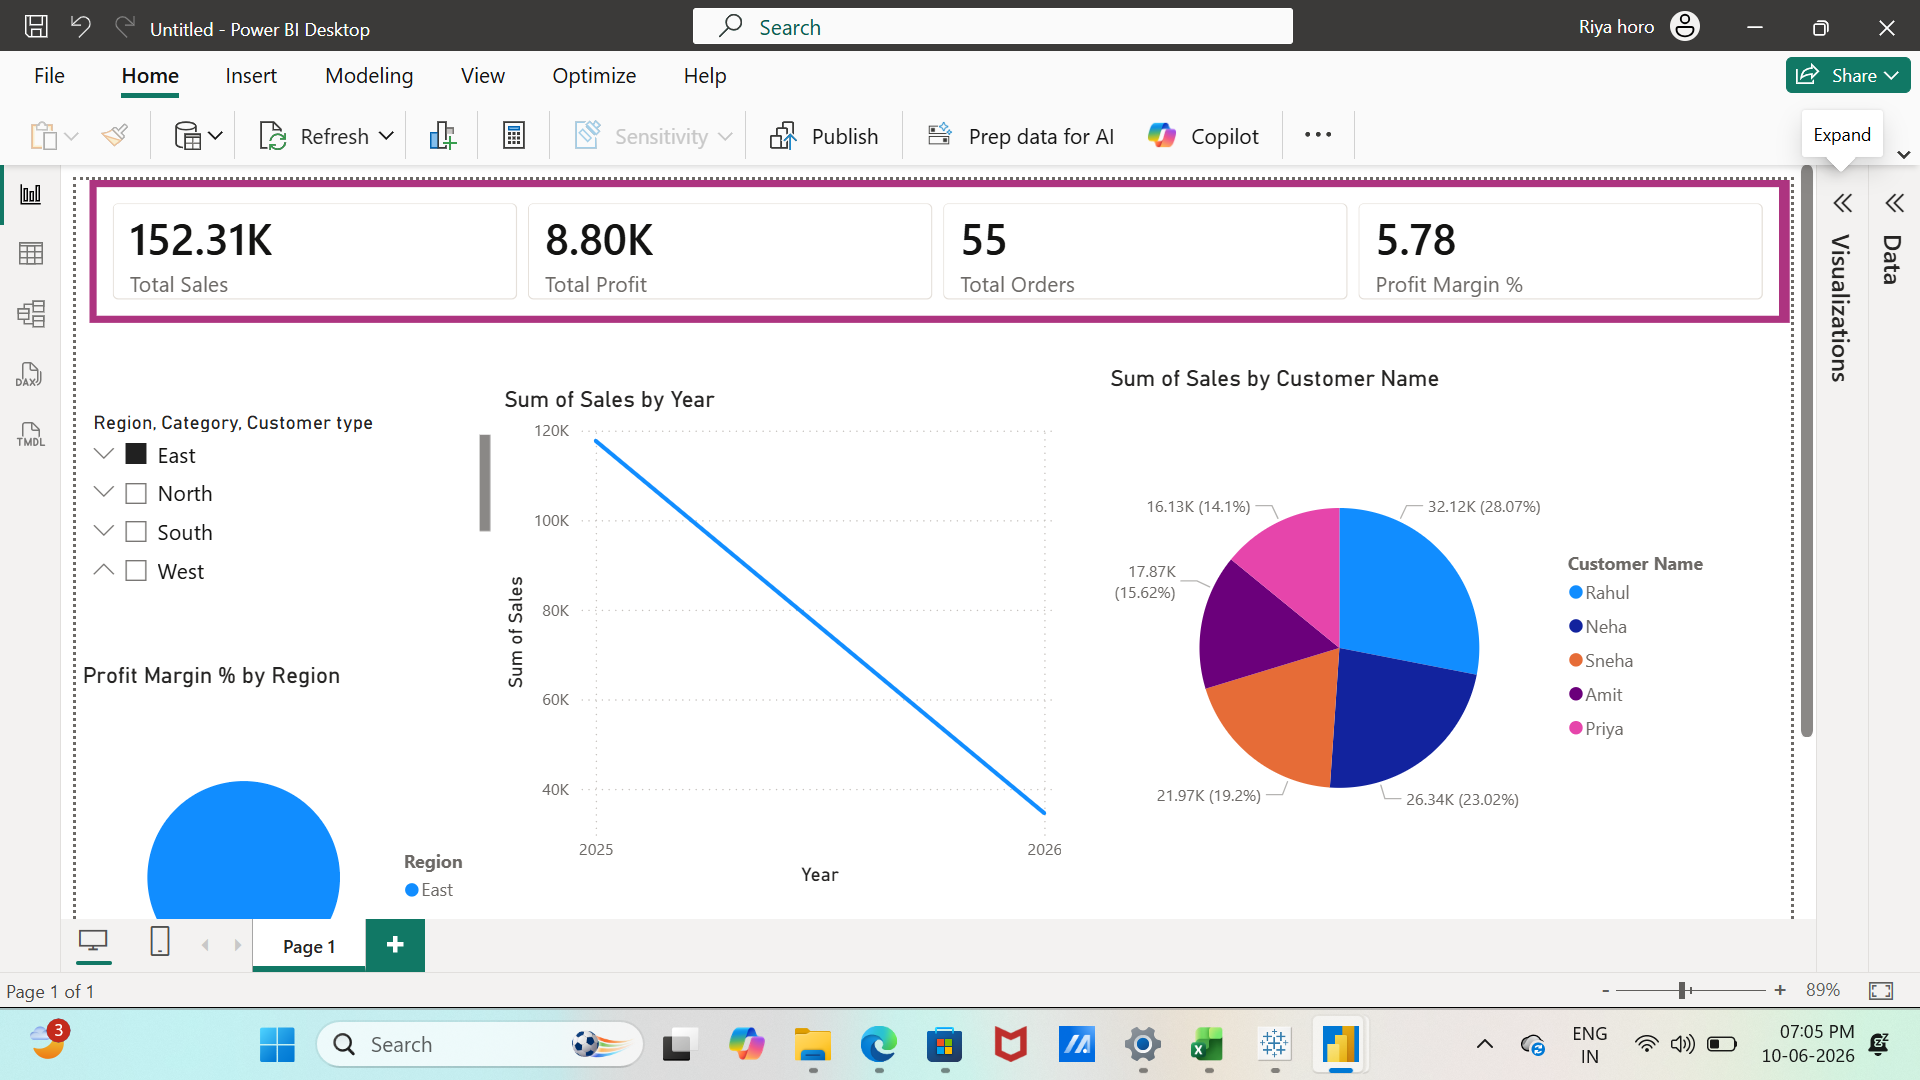

The dashboard page shown, as its layout file describes it:
{"tool":"powerbi","page":{"name":"Page 1","canvas":[1280,720],"ordinal":0},"visuals":[{"type":"cardVisual","fields":{"Data":["SalesData.Total Sales","SalesData.Total Profit","SalesData.Total Orders","SalesData.Profit Margin %"]},"box":[9.7,0,1269.5,106.9],"z":0},{"type":"lineChart","fields":{"Category":["SalesData.Order Month.Variation.Date Hierarchy.Year","SalesData.Order Month.Variation.Date Hierarchy.Quarter","SalesData.Order Month.Variation.Date Hierarchy.Month","SalesData.Order Month.Variation.Date Hierarchy.Day"],"Y":["Sum(SalesData.Sales)"]},"box":[314.1,153.8,425.9,377.3],"z":1000},{"type":"pieChart","fields":{"Category":["SalesData.Region"],"Y":["SalesData.Profit Margin %"]},"box":[0,359.1,313.7,302.4],"z":2000},{"type":"pieChart","fields":{"Category":["SalesData.Customer Name"],"Y":["Sum(SalesData.Sales)"]},"box":[767.5,137.6,469.6,403.2],"z":3000},{"type":"slicer","fields":{"Values":["SalesData.Region","SalesData.Category","SalesData.Customer type"]},"box":[0,166.8,314.1,149],"z":4000},{"type":"textbox","box":[578.3,566.9,701.1,149.3],"z":4001}]}

Visuals, with their boxes on the page's 1280x720 design canvas (x1, y1, x2, y2). These are canvas units, not pixel positions in the 1920x1080 screenshot, which may show the page scaled, cropped or inside an application window:
cardVisual - SalesData.Total Sales x SalesData.Total Profit: [x1=10, y1=0, x2=1279, y2=107]
lineChart - SalesData.Order Month.Variation.Date Hierarchy.Year x SalesData.Order Month.Variation.Date Hierarchy.Quarter: [x1=314, y1=154, x2=740, y2=531]
pieChart - SalesData.Region x SalesData.Profit Margin %: [x1=0, y1=359, x2=314, y2=662]
pieChart - SalesData.Customer Name x Sum(SalesData.Sales): [x1=768, y1=138, x2=1237, y2=541]
slicer - SalesData.Region x SalesData.Category: [x1=0, y1=167, x2=314, y2=316]
textbox: [x1=578, y1=567, x2=1279, y2=716]
